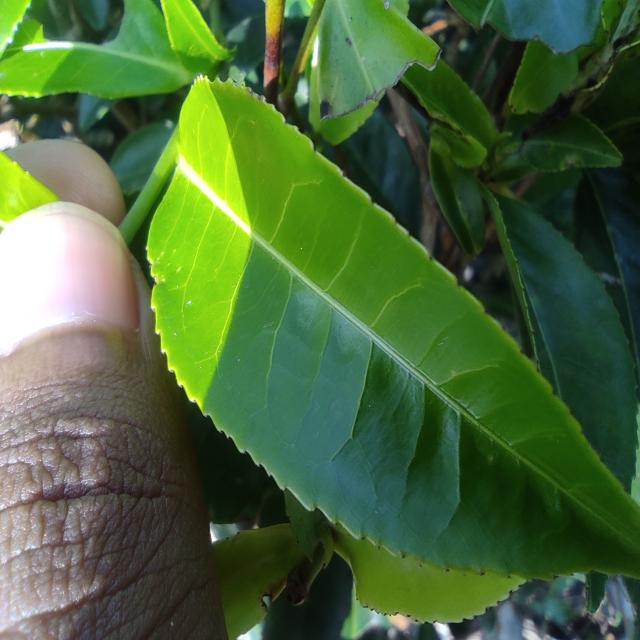Category C 4-7 days: (122, 54, 640, 620)
